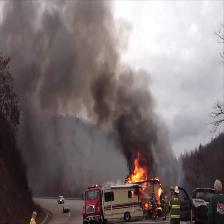fire: (125, 162, 145, 182)
smoke: (30, 27, 117, 99), (116, 110, 155, 154)
